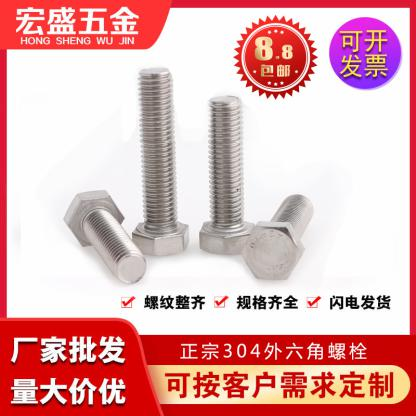FOD: (126, 64, 192, 255), (200, 94, 257, 260), (61, 186, 146, 285), (240, 192, 313, 284)
